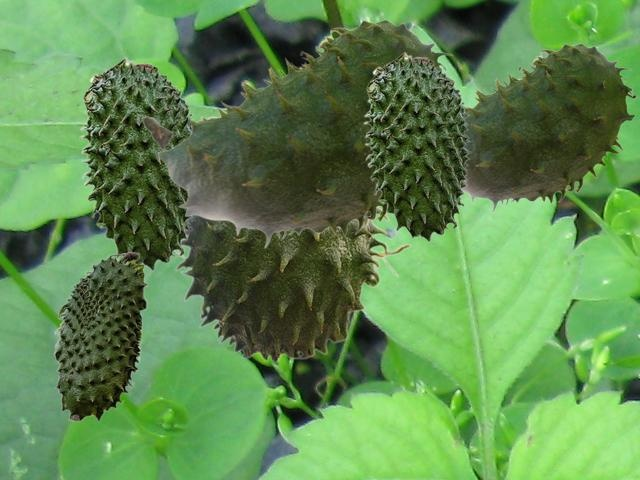guyabano: (141, 19, 459, 248), (174, 116, 411, 363), (463, 43, 635, 212), (79, 56, 195, 270), (363, 51, 471, 241), (53, 251, 147, 421)
